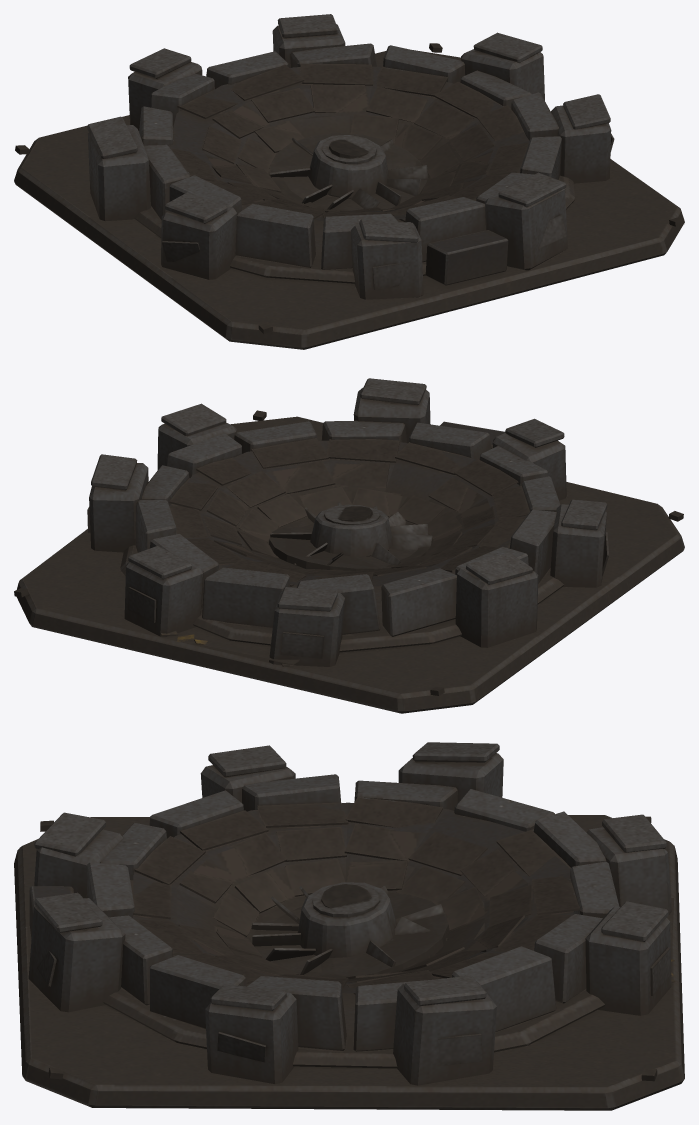
Rendered from chs_advsolar_wreck.fbx.
3 renders of one model, top to bottom at view 1: azimuth 30°, elevation 25°; view 2: azimuth 150°, elevation 25°; view 3: azimuth 270°, elevation 25°, orthographic. The views are drawn at different scales.
Parts seen in each view (by area): view 1: base_bar; view 2: base_bar; view 3: base_bar.
Part boxes in pixels (bbox=[...]): base_bar: bbox=[14, 14, 684, 349]; base_bar: bbox=[14, 378, 684, 713]; base_bar: bbox=[14, 742, 684, 1110].
Bounding box in the file's own units: 1547 × 488 × 1571.
2 materials, 2 textured.
